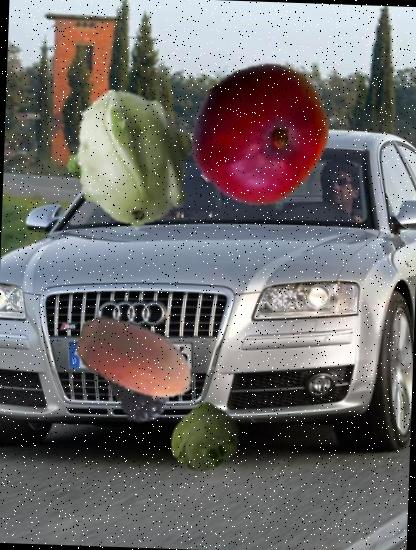Hazelnut: (73, 296, 201, 424)
Kohlrabi: (56, 85, 204, 232), (167, 399, 242, 473)
Mango: (186, 58, 336, 209)
Mulberry: (88, 323, 189, 424)
